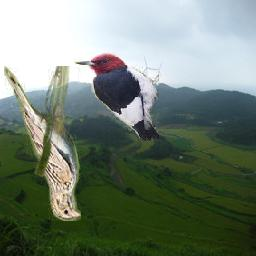Sparrow: (5, 67, 82, 222)
Woodpecker: (75, 53, 160, 142)
